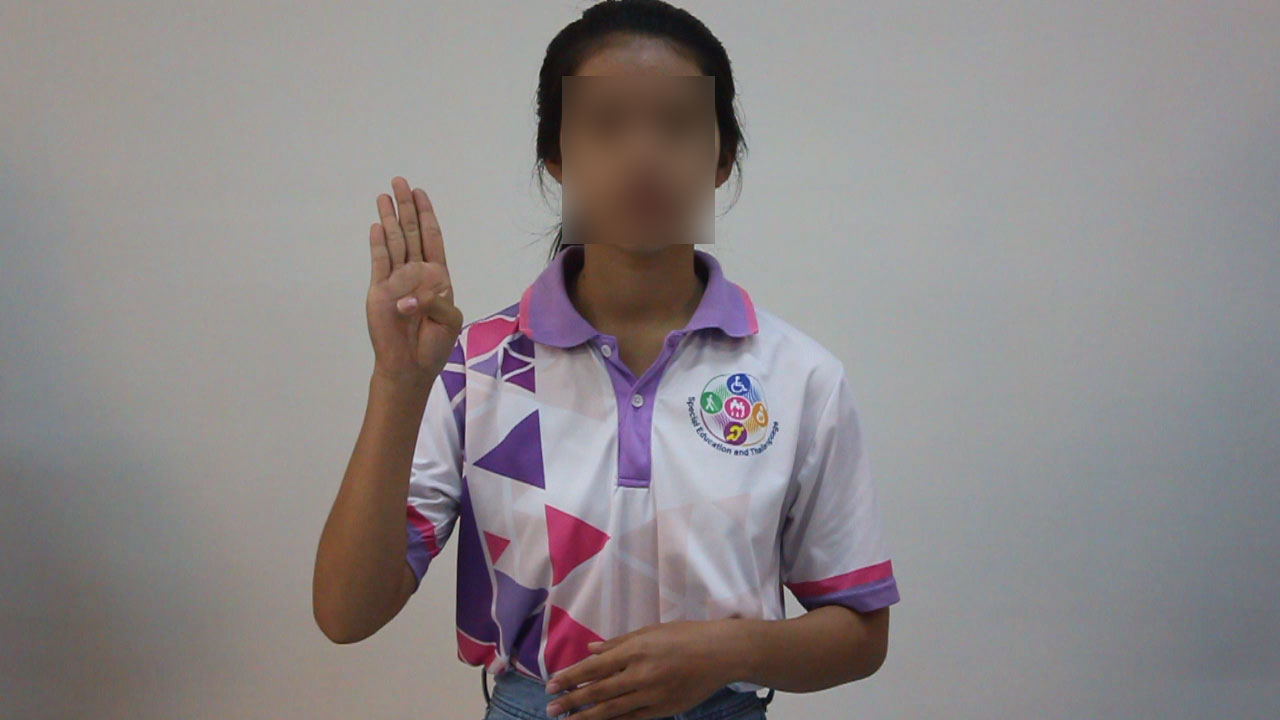bor: (351, 163, 478, 409)
